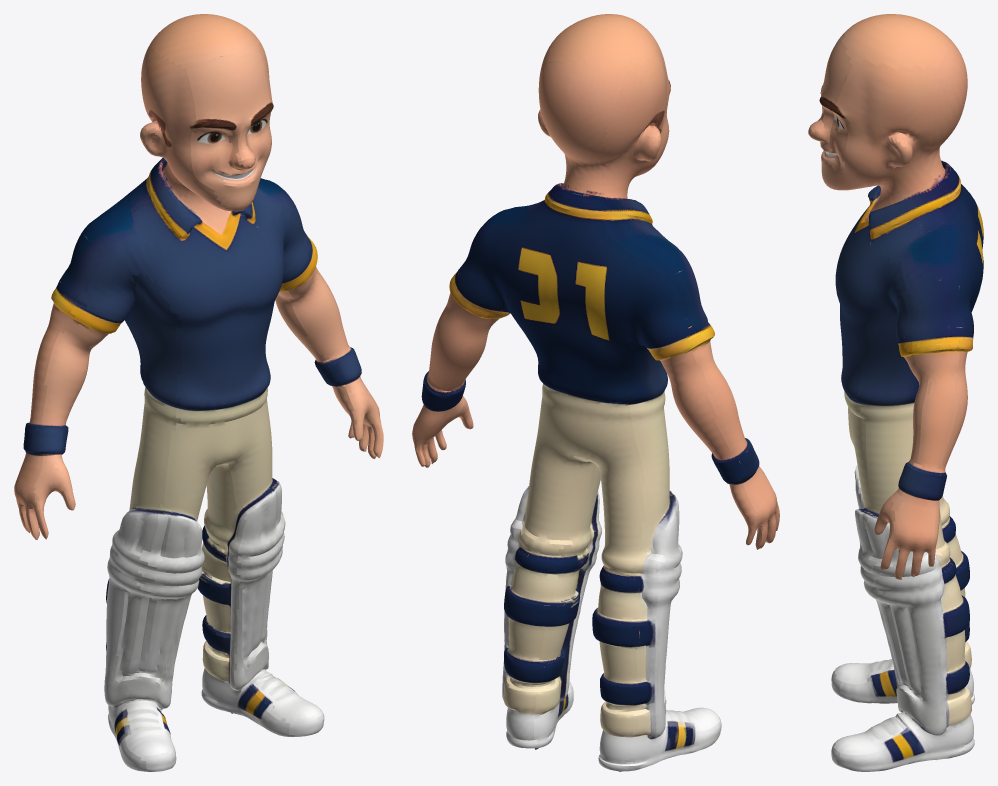
The model's file is meshy.glb.
3 renders of one model, left to right at view 1: azimuth 30°, elevation 25°; view 2: azimuth 150°, elevation 25°; view 3: azimuth 270°, elevation 25°, orthographic.
Bounding box in the file's own units: 0.985 × 1.9 × 0.4246.
1 material, 1 textured.
